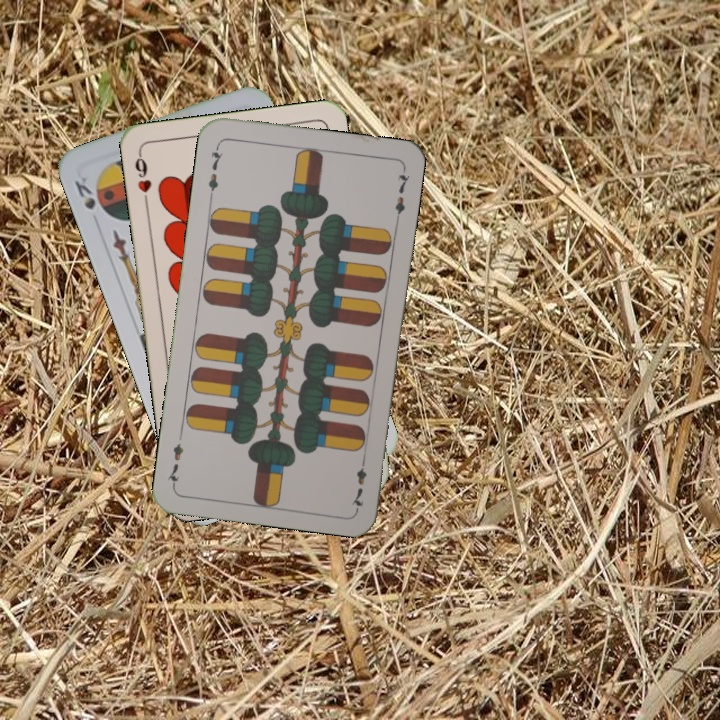E7: (204, 141, 226, 200), (347, 452, 369, 511)
H9: (130, 149, 154, 208)
SK: (70, 172, 98, 213)
